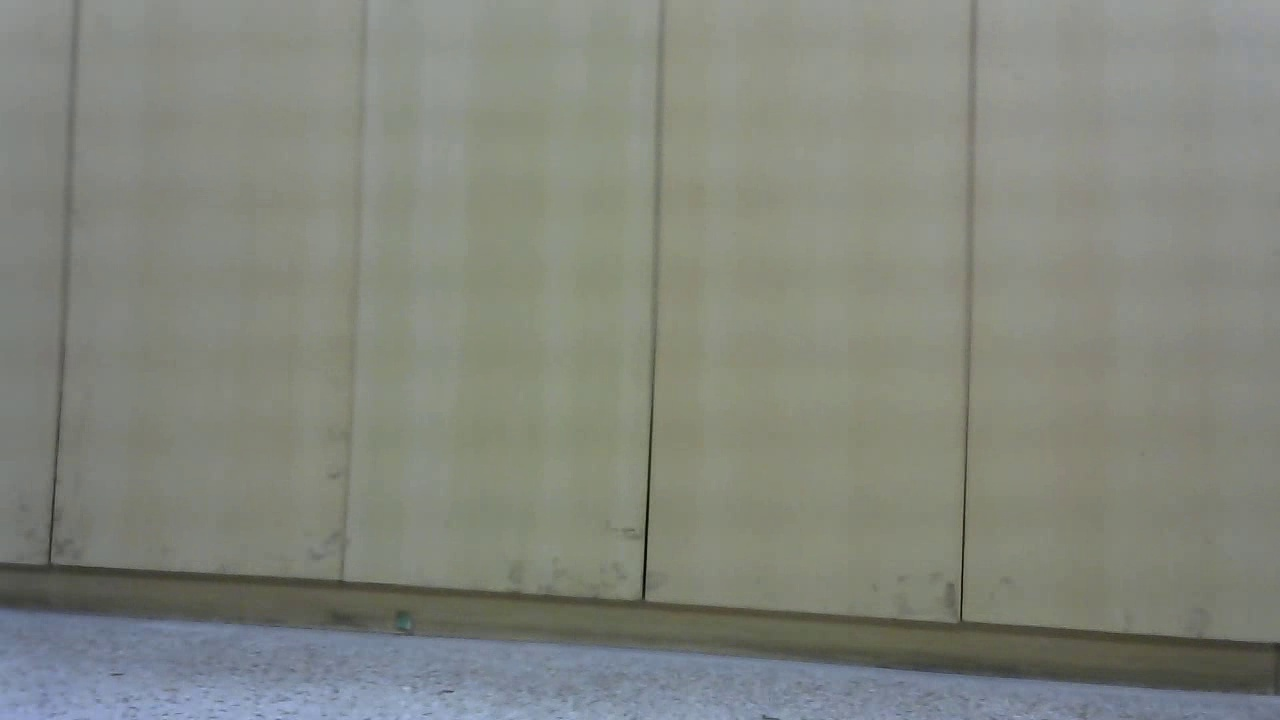chair: (1, 15, 219, 579)
